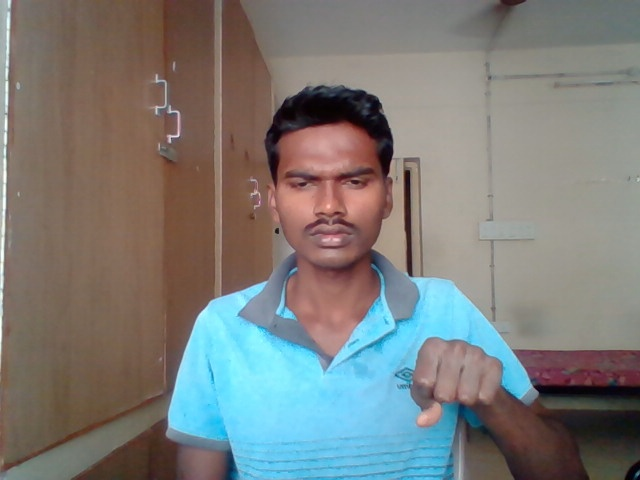Thank You: (408, 335, 507, 428)
